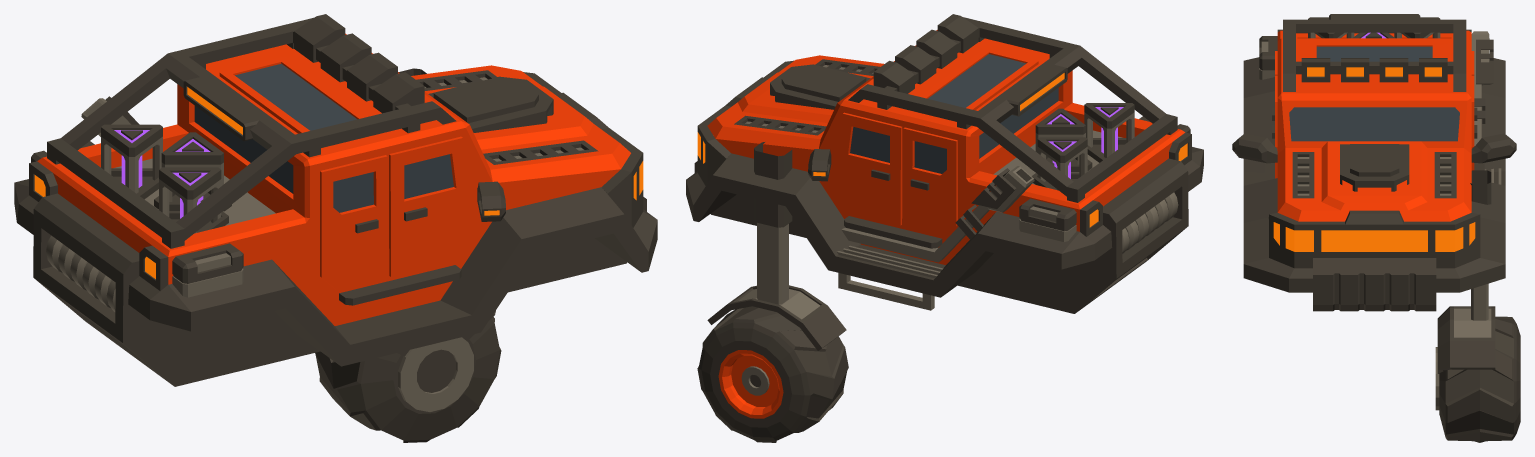
3 renders of one model, left to right at view 1: azimuth 30°, elevation 25°; view 2: azimuth 150°, elevation 25°; view 3: azimuth 270°, elevation 25°, orthographic. The views are drawn at different scales.
Parts seen in each view (by area): view 1: bodyBlack.001, bodyRed.001, wheel.004, glass.001, wheelGuard.003, energy.001, bodyMetal.001, wheelGuard.001, cellsTop.003, cellsTop.005, cellsTop.004, cellsCage.003 (+2 smaller); view 2: bodyBlack.001, bodyRed.001, wheel.004, bodyMetal.001, glass.001, wheel.005, Cylinder.040, wheelGuard.001, Cylinder.045, energy.001, cellsTop.004, cellsTop.003 (+6 smaller); view 3: bodyBlack.001, bodyRed.001, glass.001, wheel.004, headlights.001, wheelGuard.001, wheelGuard.003, bodyMetal.001, Cylinder.045, Cylinder.040, energy.001.
Boxes of the visible parts, x1,y1,x2,y2 form: bodyBlack.001: (14,14,657,386); bodyRed.001: (37,33,630,325); wheel.004: (315,317,501,442); glass.001: (194,63,453,212); wheelGuard.003: (398,337,473,411); energy.001: (46,77,583,311); bodyMetal.001: (81,98,275,297); wheelGuard.001: (397,310,495,392); cellsTop.003: (101,124,162,156); cellsTop.005: (159,167,221,199); cellsTop.004: (161,132,223,164); cellsCage.003: (101,136,162,193); bodyBlack.001: (686,14,1203,313); bodyRed.001: (707,30,1185,264); wheel.004: (697,306,848,442); bodyMetal.001: (837,130,1122,310); glass.001: (850,54,1058,173); wheel.005: (718,350,783,418); Cylinder.040: (757,222,788,304); wheelGuard.001: (707,285,846,350); Cylinder.045: (754,142,792,227); energy.001: (745,65,1178,253); cellsTop.004: (1035,108,1085,134); cellsTop.003: (1037,137,1087,162); bodyBlack.001: (1232,14,1516,311); bodyRed.001: (1275,30,1474,221); glass.001: (1289,46,1459,141); wheel.004: (1439,316,1520,442); headlights.001: (1285,67,1463,251); wheelGuard.001: (1437,306,1495,373); wheelGuard.003: (1435,308,1491,410); bodyMetal.001: (1259,31,1501,184); Cylinder.045: (1470,170,1491,204); Cylinder.040: (1471,283,1488,320); energy.001: (1261,41,1451,195).
Bounding box in the file's own units: 2.99 × 2.48 × 1.91.
